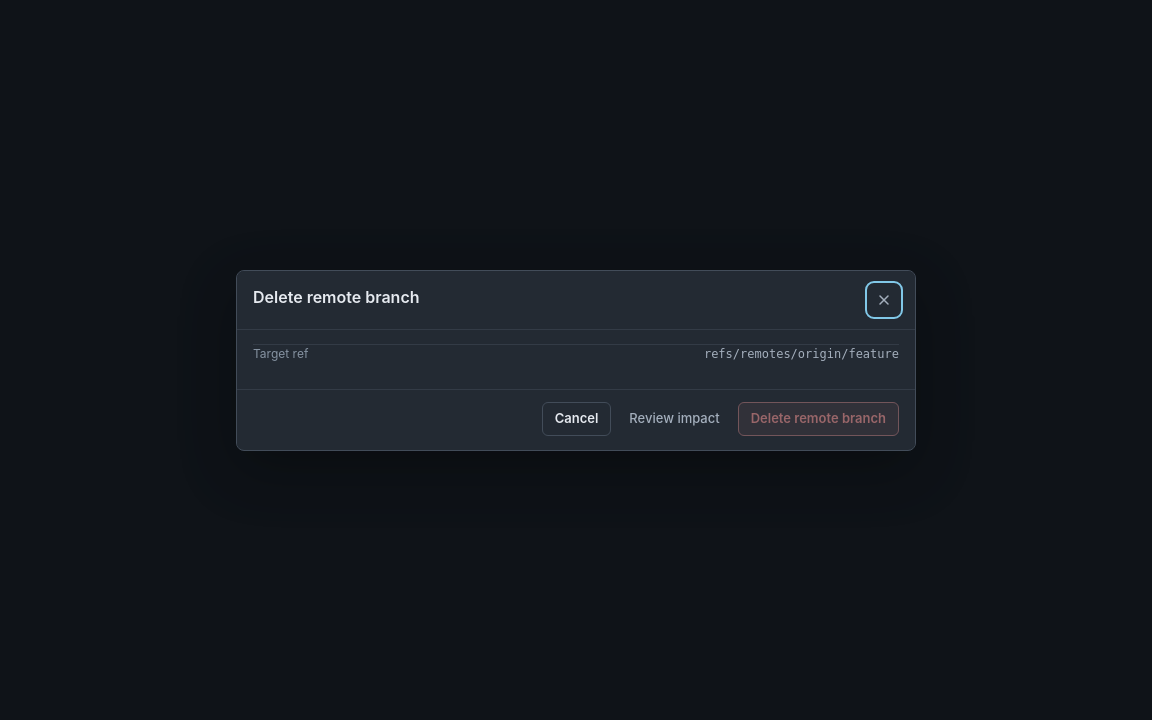
explains the remote ref, lease OID and actual preview impact before confirmation
Click the button "Review impact". click: (674, 418)
box: x1=619 y1=404 x2=730 y2=434
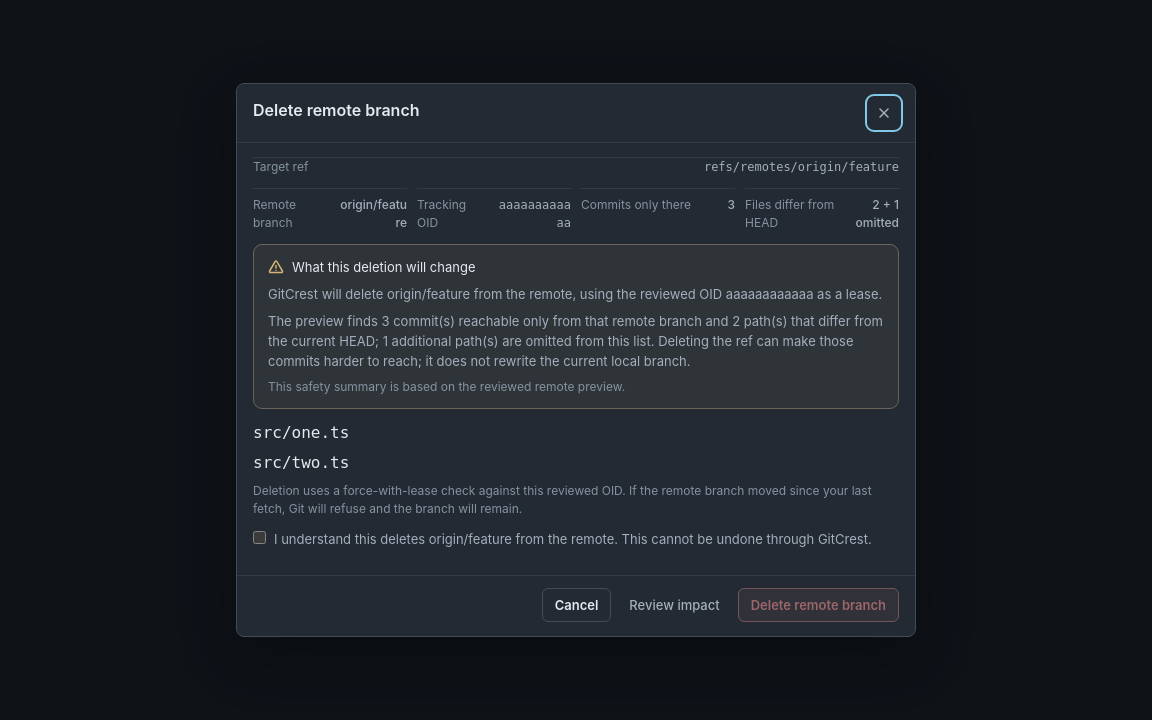
expect the element named "Remote branch deletion impact explanation" shows "origin/feature": met, box x1=268 y1=286 x2=882 y2=302
expect the element named "Remote branch deletion impact explanation" shows "3 commit(s) reachable only from that remote branch": met, box x1=268 y1=313 x2=883 y2=369
expect the element named "Remote branch deletion impact explanation" shows "2 path(s) that differ from the current HEAD; 1 additional path(s) are omitted": met, box x1=268 y1=313 x2=883 y2=369
